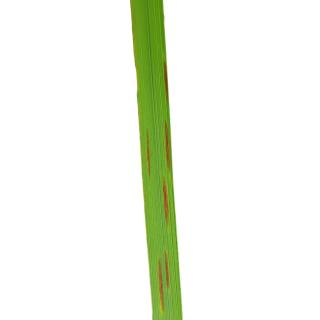Bercak-Cokelat-Sempit: (156, 253, 170, 317), (158, 54, 174, 109), (163, 118, 178, 176), (140, 122, 154, 184), (162, 176, 174, 228), (164, 249, 176, 288)
